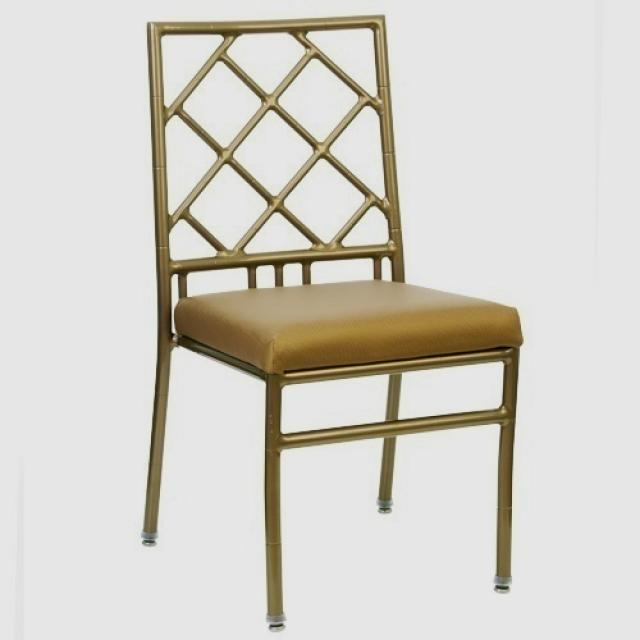Chair: (134, 14, 528, 633)
